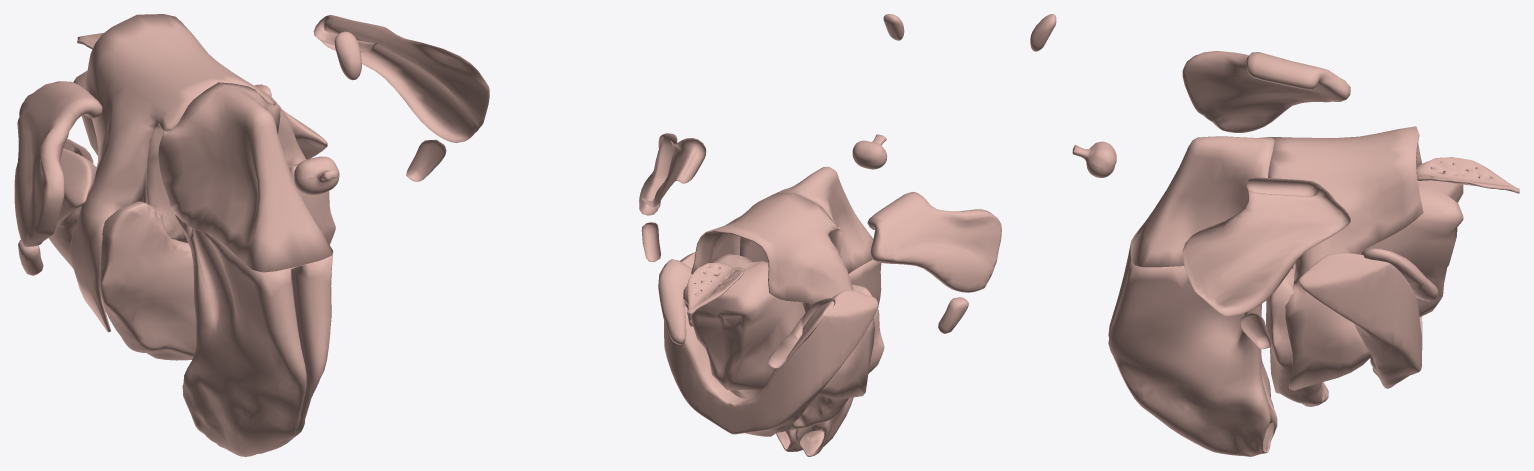
File: head__organs.ce13951c6f.glb
3 views of the same model, side by side, from view 1: azimuth 30°, elevation 25°; view 2: azimuth 150°, elevation 25°; view 3: azimuth 270°, elevation 25° (orthographic). The views are drawn at different scales.
Parts seen in each view (by area): view 1: Mucosa of nasal cavity, Nasopharynx, Oropharynx, Gingiva, Parotid gland.l, Parotid gland.r, Soft palate, (Accessory parotid gland).l, Pineal gland, Neurohypophysis, Adenohypophysis, (Accessory parotid gland).r; view 2: Gingiva, Oropharynx, Tongue, Parotid gland.r, Nasopharynx, Parotid gland.l, Mucosa of nasal cavity, Submandibular gland.l, Epiglottis, Submandibular gland.r, Soft palate, Neurohypophysis (+2 smaller); view 3: Mucosa of nasal cavity, Oropharynx, Parotid gland.l, Gingiva, Nasopharynx, Parotid gland.r, Tongue, Epiglottis, Submandibular gland.l, Neurohypophysis, (Accessory parotid gland).l, Pineal gland.
Boxes of the visible parts, x1,y1,x2,y2 form: Mucosa of nasal cavity: [175, 215, 333, 456]; Nasopharynx: [158, 82, 332, 272]; Oropharynx: [69, 14, 306, 332]; Gingiva: [48, 110, 335, 360]; Parotid gland.l: [313, 15, 489, 142]; Parotid gland.r: [14, 81, 102, 246]; Soft palate: [146, 103, 279, 243]; (Accessory parotid gland).l: [406, 139, 446, 181]; Pineal gland: [334, 31, 361, 80]; Neurohypophysis: [294, 156, 338, 179]; Adenohypophysis: [294, 170, 339, 194]; (Accessory parotid gland).r: [18, 240, 43, 275]; Gingiva: [664, 252, 884, 436]; Oropharynx: [691, 193, 874, 399]; Tongue: [683, 254, 805, 398]; Parotid gland.r: [867, 192, 1001, 292]; Nasopharynx: [772, 166, 873, 273]; Parotid gland.l: [639, 133, 706, 215]; Mucosa of nasal cavity: [776, 260, 881, 456]; Submandibular gland.l: [658, 259, 693, 344]; Epiglottis: [686, 262, 744, 315]; Submandibular gland.r: [768, 298, 835, 368]; Soft palate: [740, 228, 841, 312]; Neurohypophysis: [852, 134, 886, 163]; Mucosa of nasal cavity: [1108, 241, 1277, 456]; Oropharynx: [1268, 126, 1423, 390]; Parotid gland.l: [1182, 177, 1350, 316]; Gingiva: [1266, 252, 1422, 406]; Nasopharynx: [1130, 136, 1274, 267]; Parotid gland.r: [1182, 51, 1350, 132]; Tongue: [1360, 180, 1463, 316]; Epiglottis: [1416, 157, 1519, 193]; Submandibular gland.l: [1361, 248, 1438, 301]; Neurohypophysis: [1074, 141, 1116, 169]; (Accessory parotid gland).l: [1240, 313, 1270, 349]; Pineal gland: [1030, 14, 1056, 51].
Size of the model in its own units: 149 by 132 by 134.
